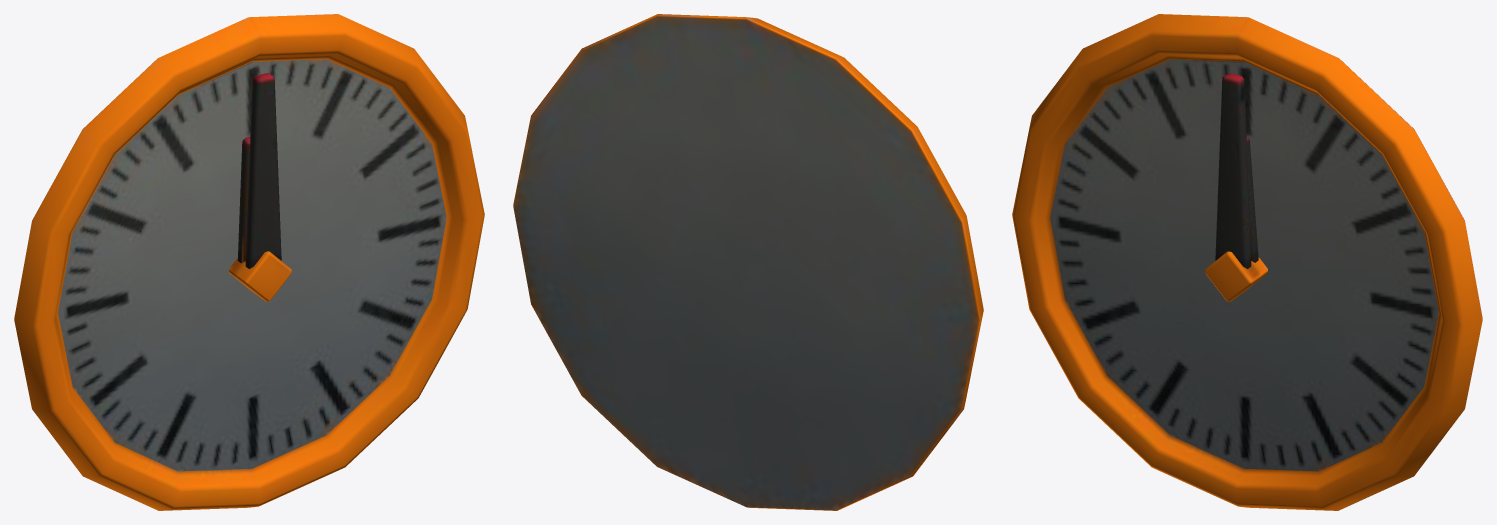
The model's file is SM_Clock01.glb.
The picture shows the model from 3 angles, left to right: view 1: azimuth 30°, elevation 25°; view 2: azimuth 150°, elevation 25°; view 3: azimuth 330°, elevation 25°; orthographic projection.
Parts seen in each view (by area): view 1: SM_Clock001, SM_ClockHand_M, SM_ClockHand_H; view 2: SM_Clock001; view 3: SM_Clock001, SM_ClockHand_M, SM_ClockHand_H.
Part boxes in pixels (x1,y1,x2,y2): SM_Clock001: (14,14,484,510); SM_ClockHand_M: (245,73,281,268); SM_ClockHand_H: (237,136,250,263); SM_Clock001: (513,14,983,510); SM_Clock001: (1012,14,1482,510); SM_ClockHand_M: (1215,73,1251,268); SM_ClockHand_H: (1246,137,1258,262).
Bounding box in the file's own units: 0.6204 × 0.6204 × 0.0526.
1 material, 1 textured.
